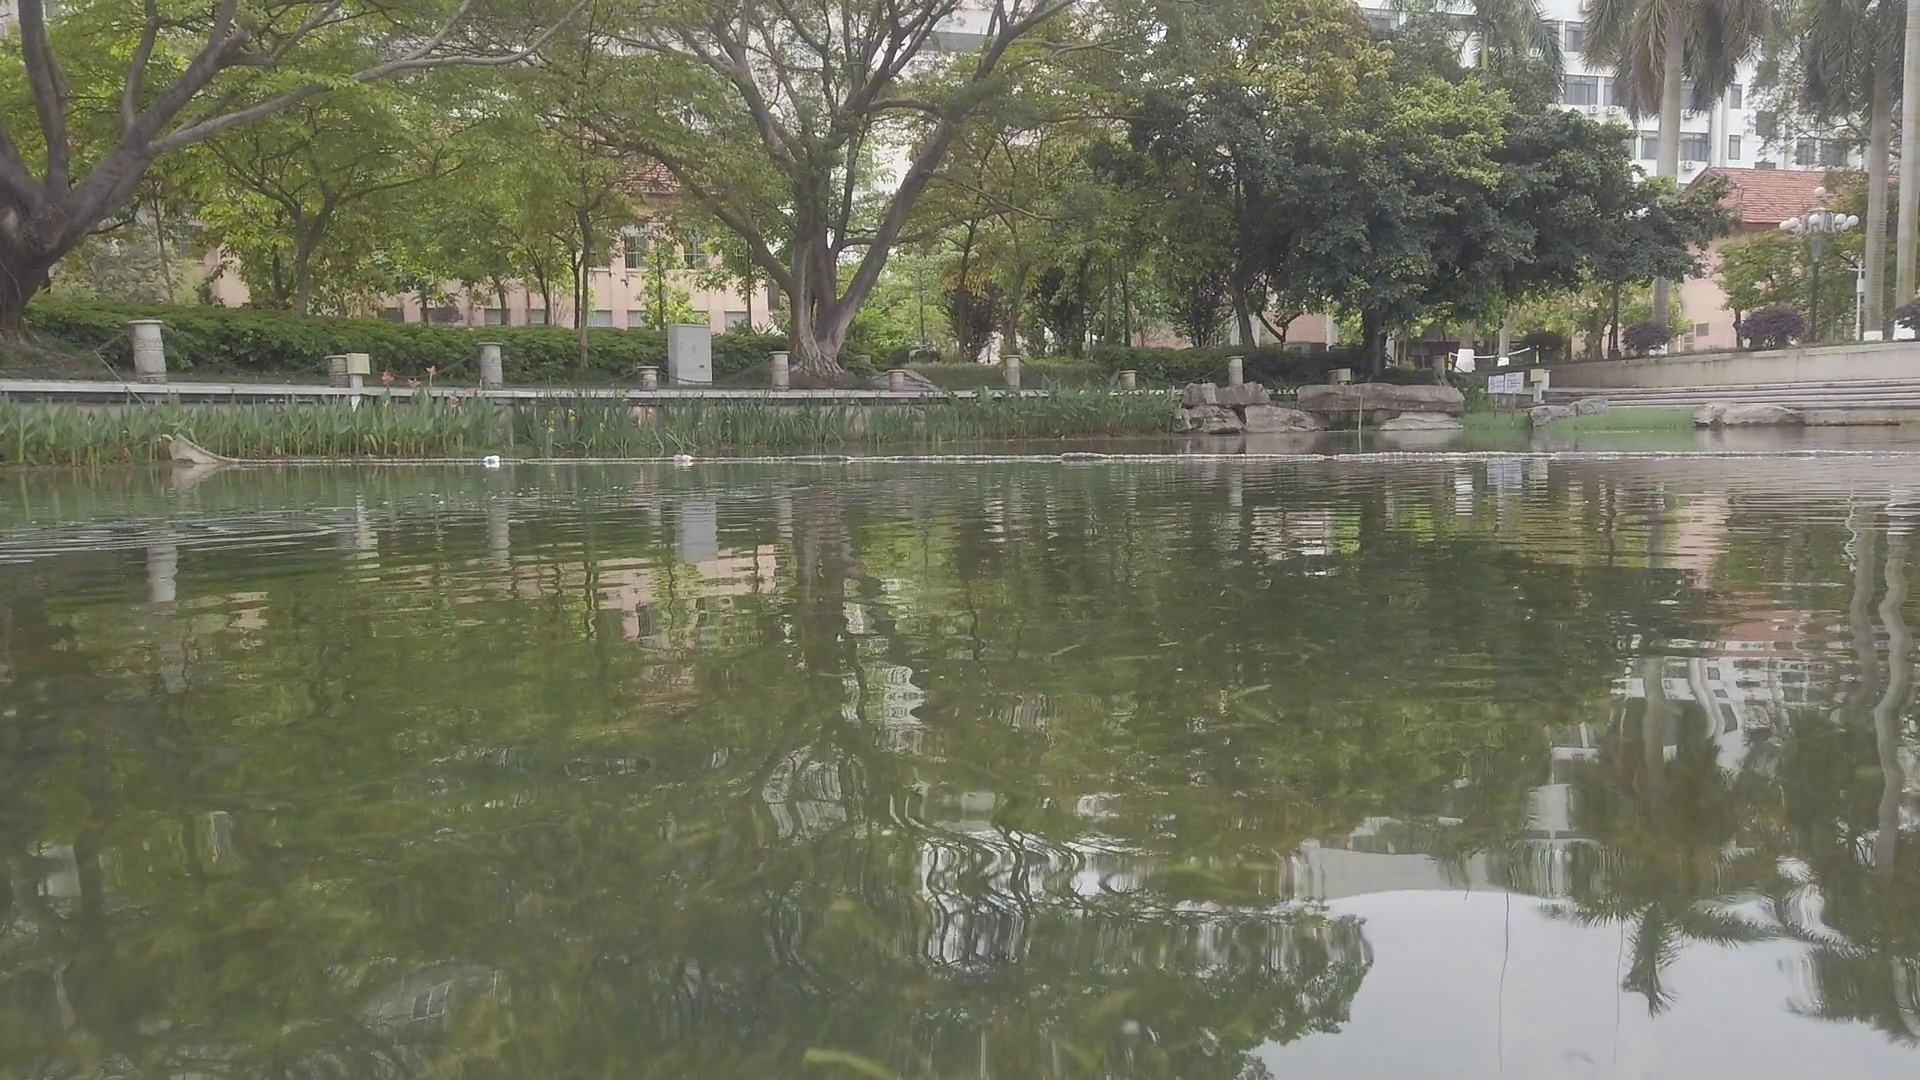bottle: (675, 455, 696, 464), (483, 455, 498, 463)
